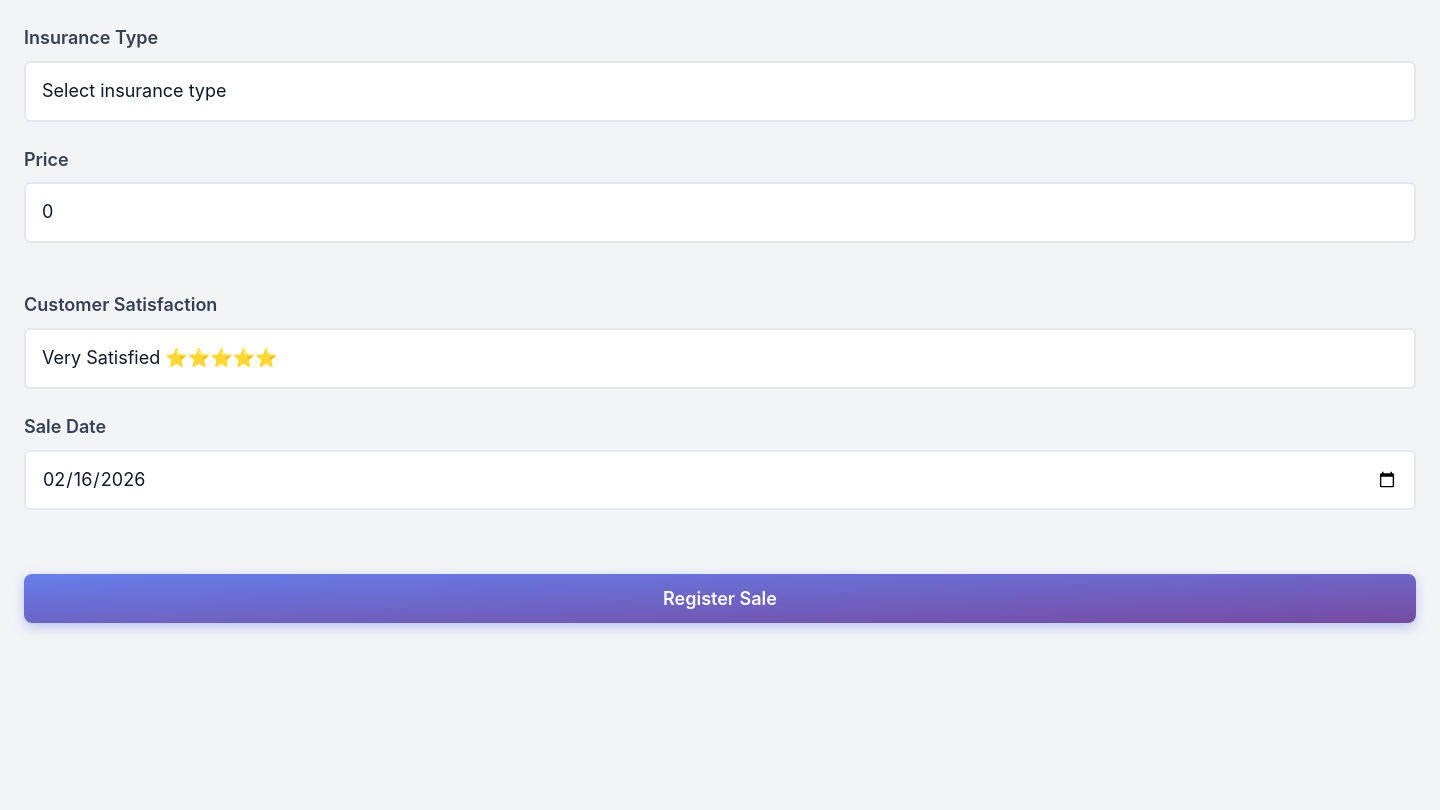
Test: SaleForm › should reset form after submission
Replace the text in the number field labelled "Price" with "1000" at (720, 213), box [24,182,1416,243]
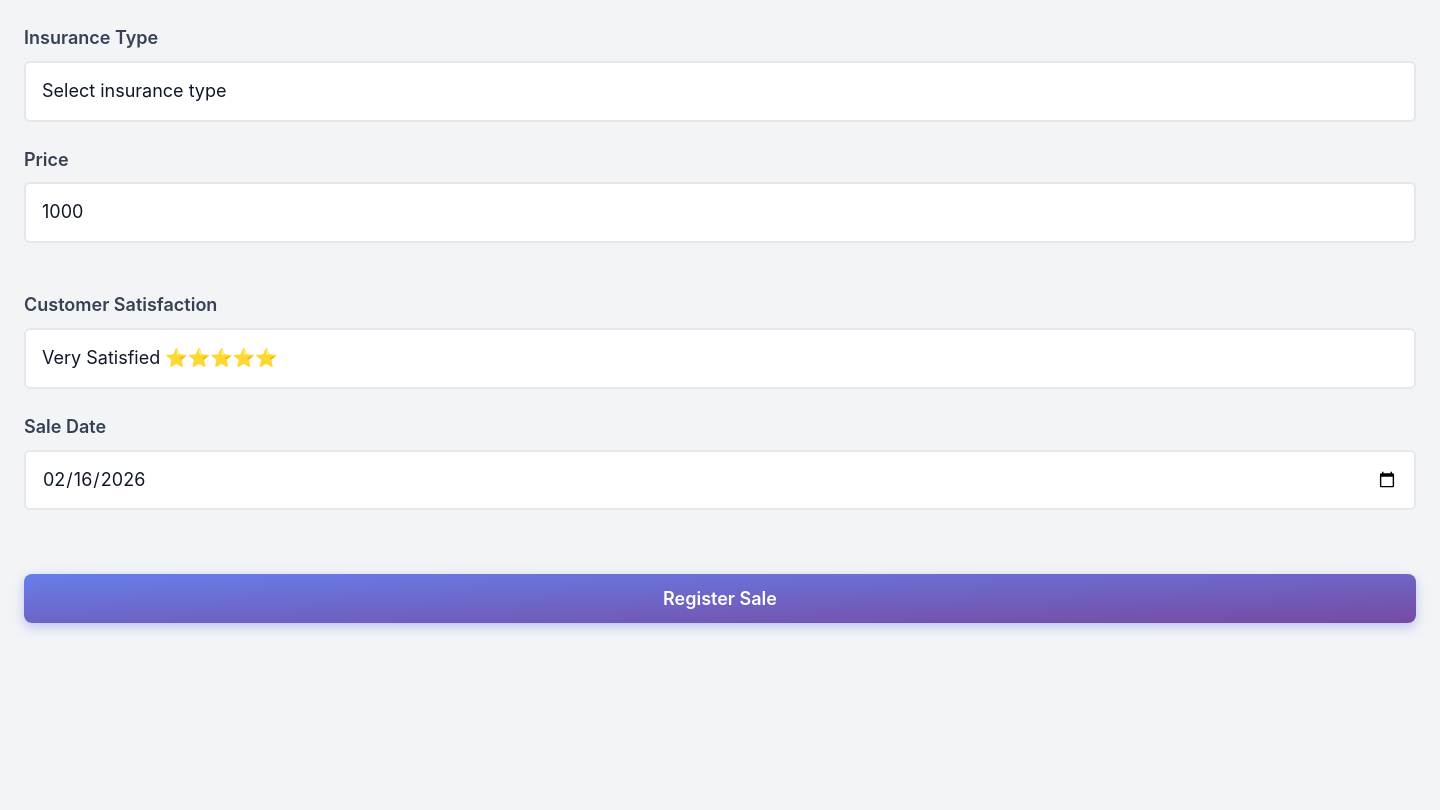
Submit the form
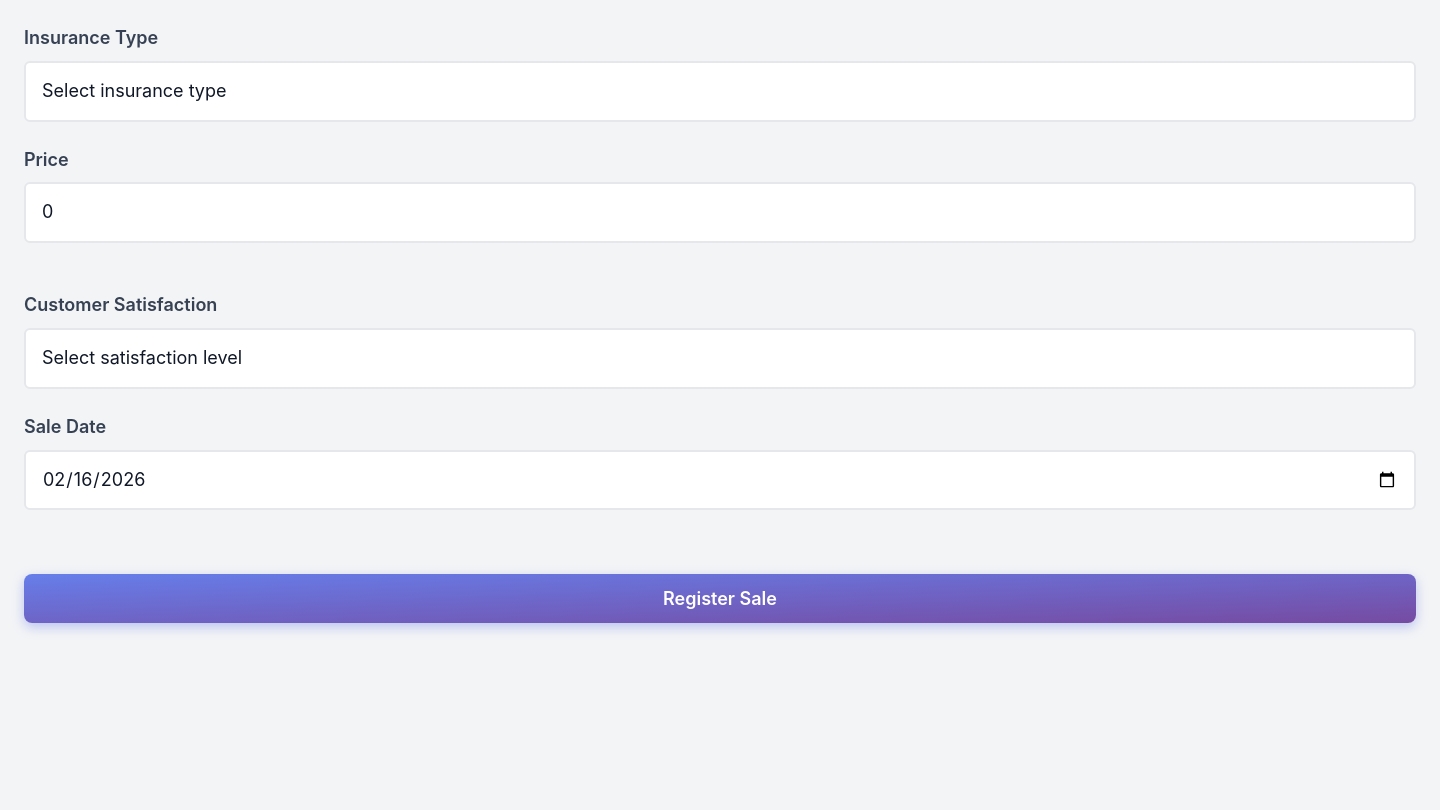
Expected: the number field labelled "Price" holds "0", [24,182,1416,243]
